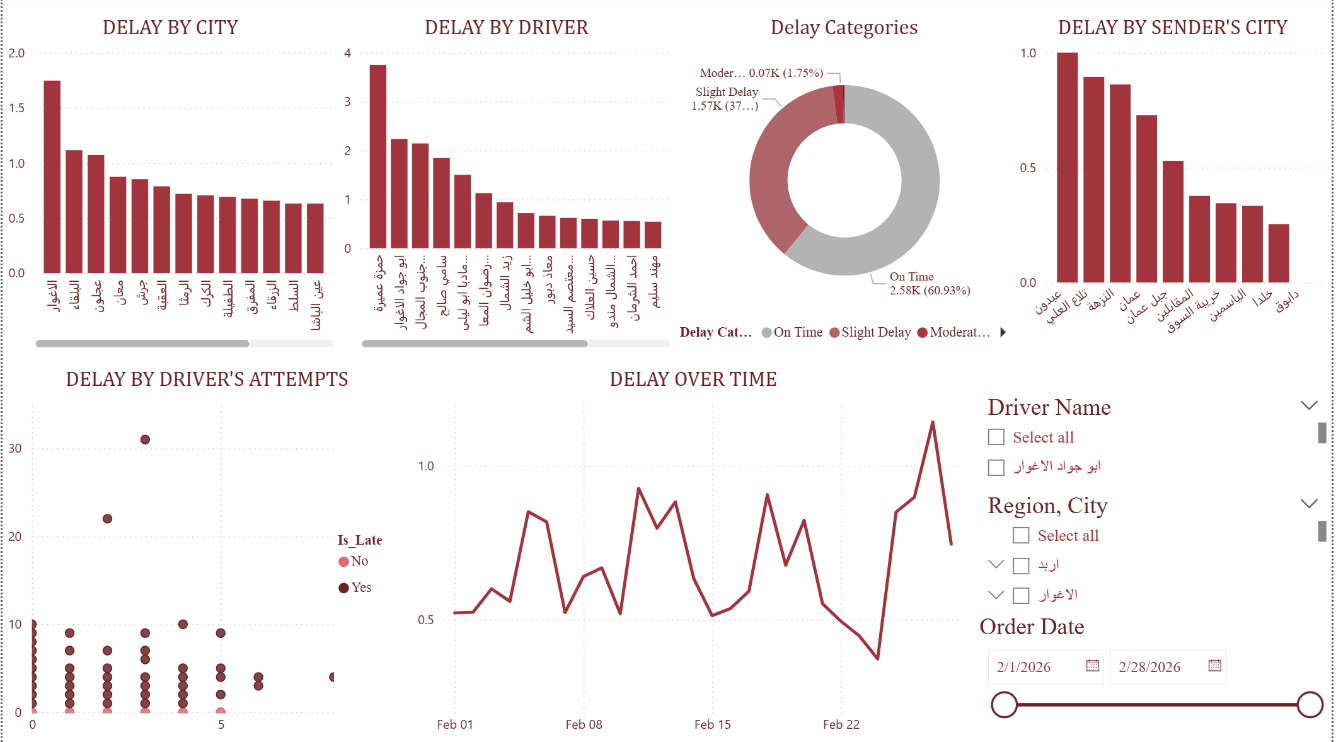

The dashboard page shown, as its layout file describes it:
{"tool":"powerbi","page":{"name":"DELAY ANALYSIS","canvas":[1280,720],"ordinal":1},"visuals":[{"type":"columnChart","title":"DELAY BY CITY","fields":{"Category":["Table.Area"],"Y":["DAX Measures.Avg Delay"]},"box":[0,19.7,323.3,323.3],"z":0},{"type":"columnChart","title":"DELAY BY DRIVER","fields":{"Y":["DAX Measures.Avg Delay"],"Category":["Table.Driver Name"]},"box":[323.3,19.7,324.4,323.3],"z":1000},{"type":"columnChart","title":"DELAY BY SENDER''S CITY","fields":{"Y":["DAX Measures.Avg Delay"],"Category":["Table.Sender's City"]},"box":[974.5,19.7,305.9,323.3],"z":2000},{"type":"scatterChart","title":"DELAY BY DRIVER''S ATTEMPTS","fields":{"Y":["Table.Delivery_Delay"],"X":["Table.Driver Attempts"],"Series":["Table.Is_Late - Copy"]},"box":[0,359.2,394,360.4],"z":3000},{"type":"lineChart","title":"DELAY OVER TIME","fields":{"Y":["DAX Measures.Avg Delay"],"Category":["Table.Order Date.Variation.Date Hierarchy.Year","Table.Order Date.Variation.Date Hierarchy.Quarter","Table.Order Date.Variation.Date Hierarchy.Month","Table.Order Date.Variation.Date Hierarchy.Day"]},"box":[394,359.2,542.3,360.4],"z":4000},{"type":"slicer","fields":{"Values":["Table.Driver Name"]},"box":[936.3,377.7,344.1,95],"z":5000},{"type":"slicer","title":"Order Date","fields":{"Values":["Table.Booking Date"]},"box":[936.3,594.4,344.1,125.1],"z":6000},{"type":"slicer","fields":{"Values":["Table.Region","Table.City"]},"box":[936.3,472.8,344.1,121.7],"z":7000},{"type":"donutChart","title":"Delay Categories","fields":{"Category":["Table.Delay Category"],"Y":["CountNonNull(Table.Delay Category)"]},"box":[647.7,19.7,326.8,323.3],"z":8000}]}

Visuals, with their boxes in screenshot pixels (x1, y1, x2, y2), scaled from the page's 1280x720 canvas onto the 1336x742 screenshot:
"DELAY BY CITY" columnChart: box=[0, 20, 337, 353]
"DELAY BY DRIVER" columnChart: box=[337, 20, 676, 353]
"DELAY BY SENDER''S CITY" columnChart: box=[1017, 20, 1335, 353]
"DELAY BY DRIVER''S ATTEMPTS" scatterChart: box=[0, 370, 411, 741]
"DELAY OVER TIME" lineChart: box=[411, 370, 977, 741]
slicer - Table.Driver Name: box=[977, 389, 1335, 487]
"Order Date" slicer: box=[977, 613, 1335, 741]
slicer - Table.Region x Table.City: box=[977, 487, 1335, 613]
"Delay Categories" donutChart: box=[676, 20, 1017, 353]
